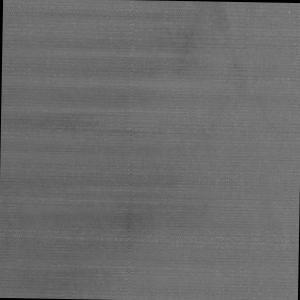Wrinkle: (1, 1, 236, 120)
